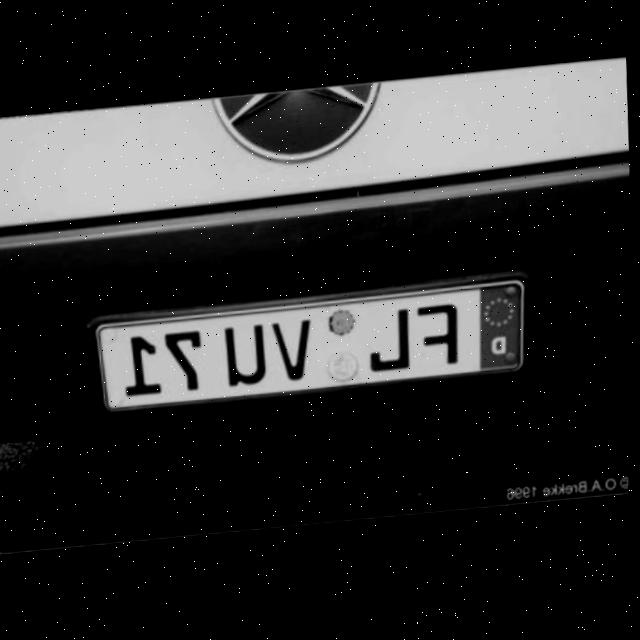license-plates: (94, 280, 524, 413)
